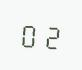two: (40, 19, 60, 51)
zero: (19, 18, 39, 49)
